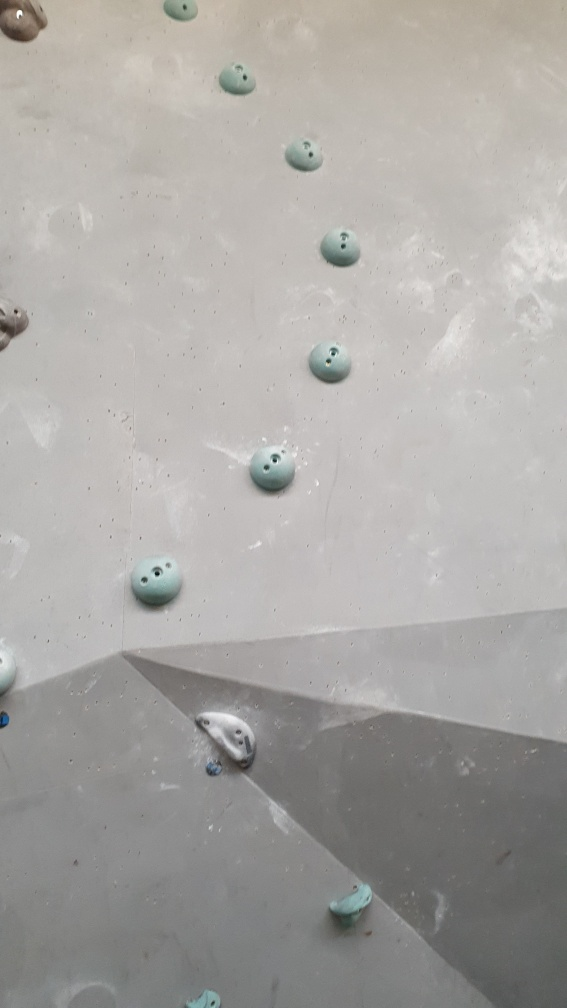Hand Start: (202, 756, 226, 781)
Jug: (322, 873, 376, 929)
Sloper: (126, 555, 189, 611), (248, 439, 298, 492), (317, 224, 363, 275), (309, 337, 353, 387), (215, 57, 260, 100), (284, 134, 327, 174)
